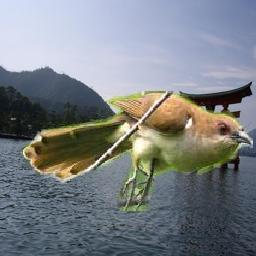Cuckoo: (21, 91, 253, 211)
